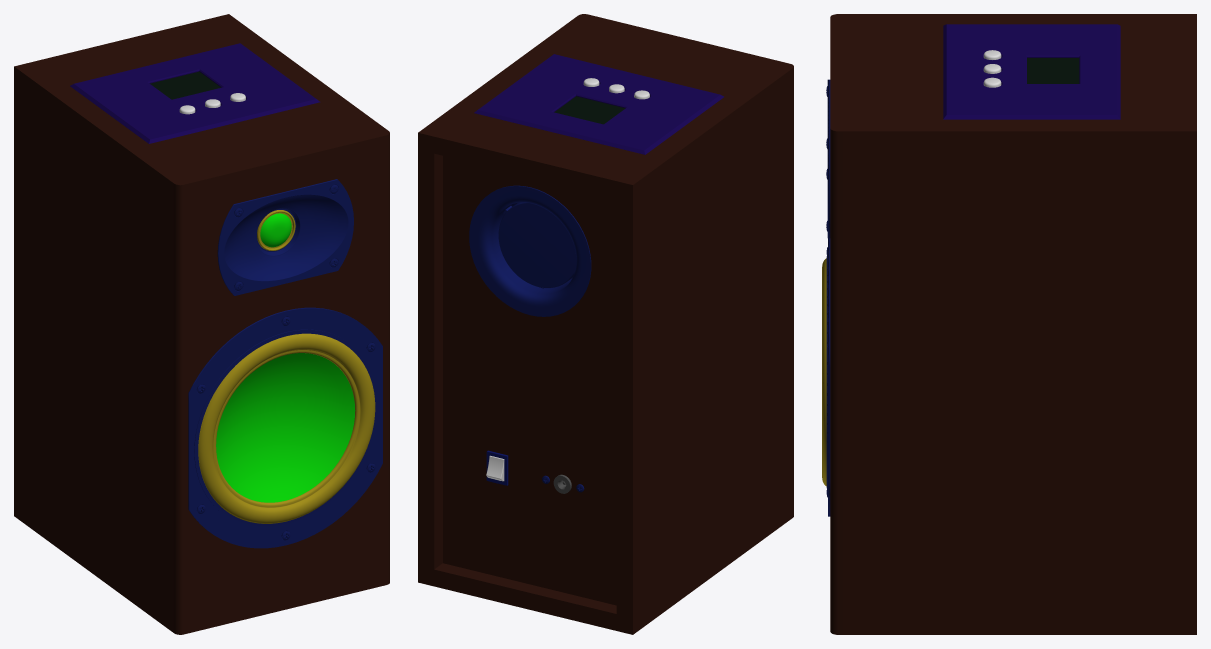
File: Генератор белого шума.fbx
The picture shows the model from 3 angles, left to right: view 1: azimuth 30°, elevation 25°; view 2: azimuth 150°, elevation 25°; view 3: azimuth 270°, elevation 25°; orthographic projection. The views are drawn at different scales.
Visible parts, largest first — view 1: Korpus_generator_belogo_shuma; view 2: Korpus_generator_belogo_shuma; view 3: Korpus_generator_belogo_shuma.
Part boxes in pixels (x1=…): Korpus_generator_belogo_shuma: x1=14, y1=14, x2=389, y2=634; Korpus_generator_belogo_shuma: x1=418, y1=14, x2=793, y2=634; Korpus_generator_belogo_shuma: x1=822, y1=14, x2=1196, y2=634.
Bounding box in the file's own units: 12.52 × 25.34 × 16.9.
